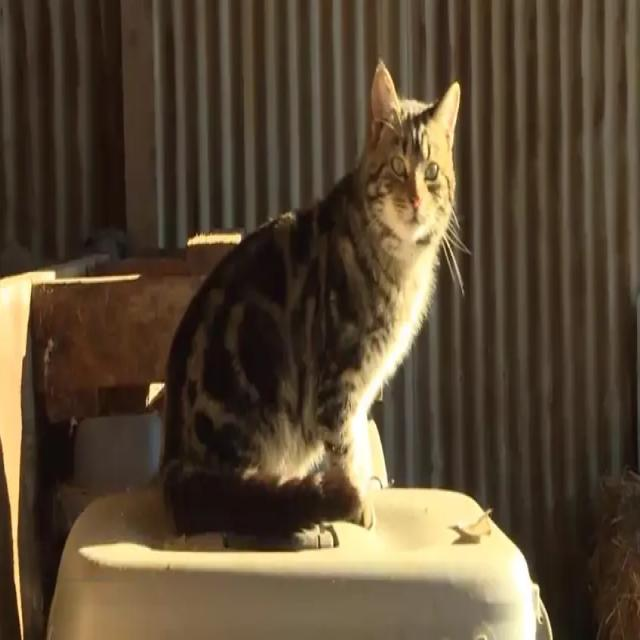cat: (161, 64, 460, 548)
